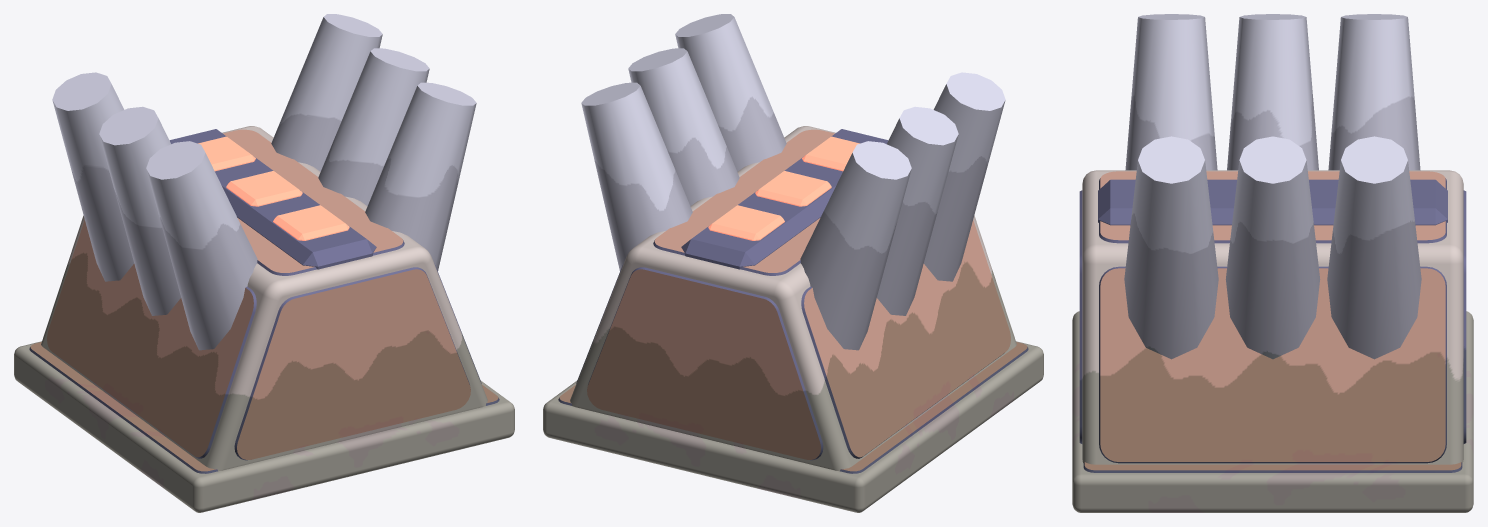
Rendered from R4X_Overdrive.glb.
The picture shows the model from 3 angles, left to right: view 1: azimuth 30°, elevation 25°; view 2: azimuth 150°, elevation 25°; view 3: azimuth 270°, elevation 25°; orthographic projection. The views are drawn at different scales.
Parts seen in each view (by area): view 1: R4X_Overdrive_Body; view 2: R4X_Overdrive_Body; view 3: R4X_Overdrive_Body.
Part boxes in pixels (<box>): R4X_Overdrive_Body: <box>14,14,514,512</box>; R4X_Overdrive_Body: <box>543,14,1043,512</box>; R4X_Overdrive_Body: <box>1072,14,1473,512</box>.
Bounding box in the file's own units: 0.5147 × 0.5019 × 0.514.
5 materials, 4 textured.
